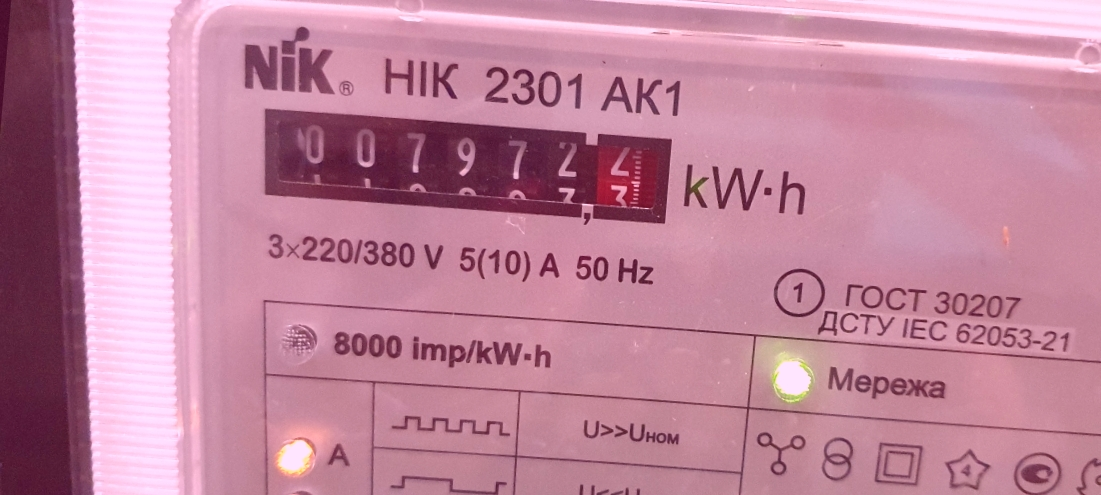0: (300, 121, 329, 164), (351, 125, 379, 168)
2: (554, 139, 580, 179), (606, 143, 632, 179)
3: (606, 181, 630, 208)
7: (501, 135, 530, 183), (401, 128, 428, 175)
9: (451, 133, 477, 178)
screen: (240, 91, 690, 242)
